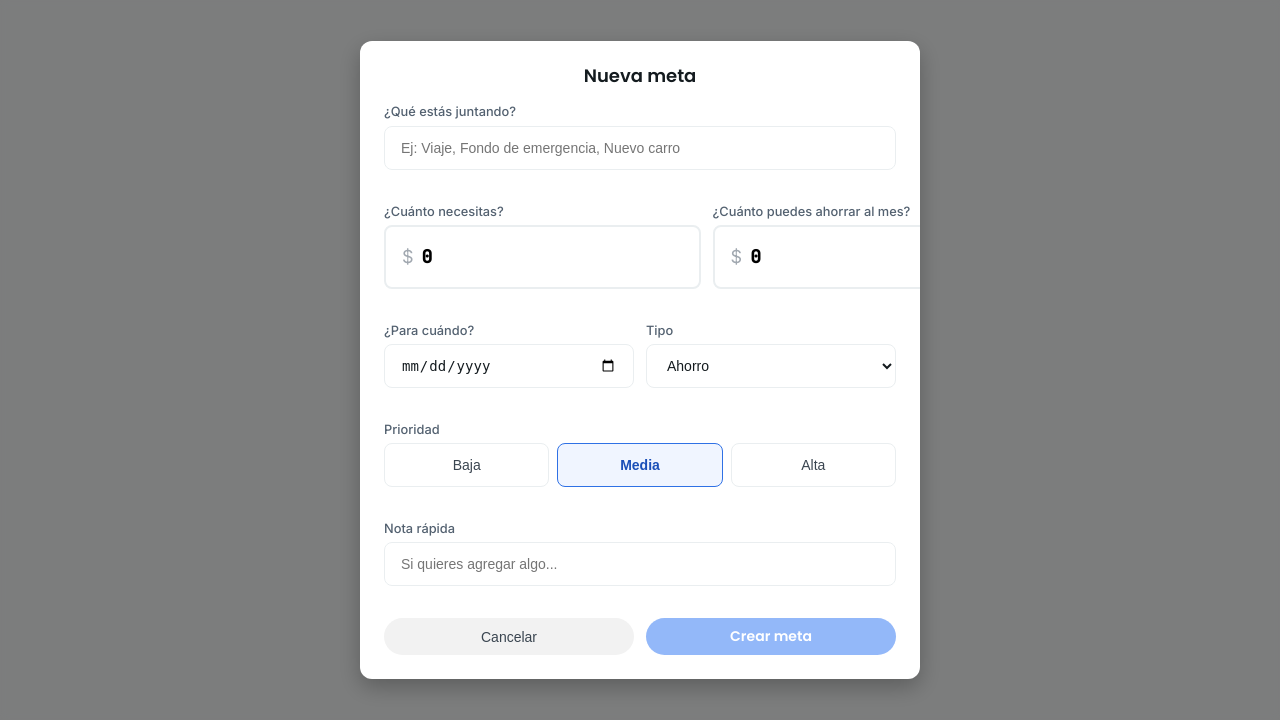
Test: GoalCreateModal › enables submit when name and target_amount filled
The image size is (1280, 720).
Type "Vacaciones" into the field with id "goal-name" at [640, 148], box 384,126 -> 896,170
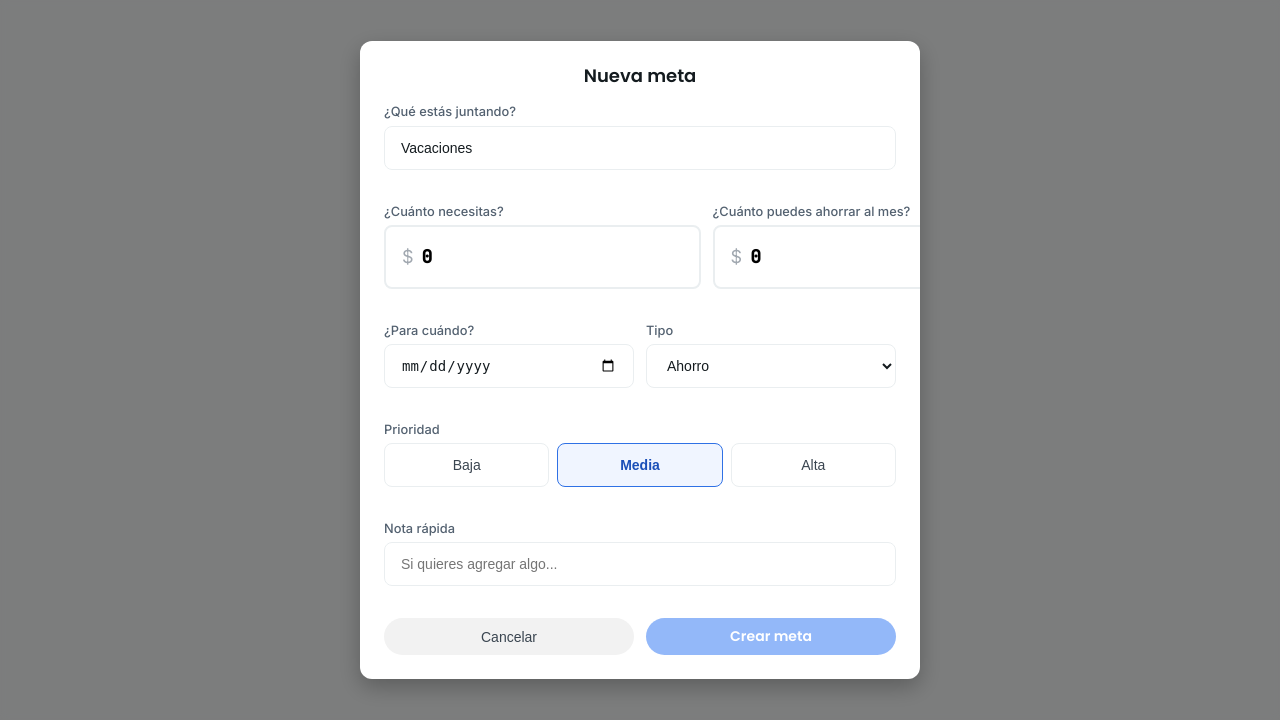
Type "5000000" into the field with id "goal-target" at [552, 257], box 422,235 -> 683,279
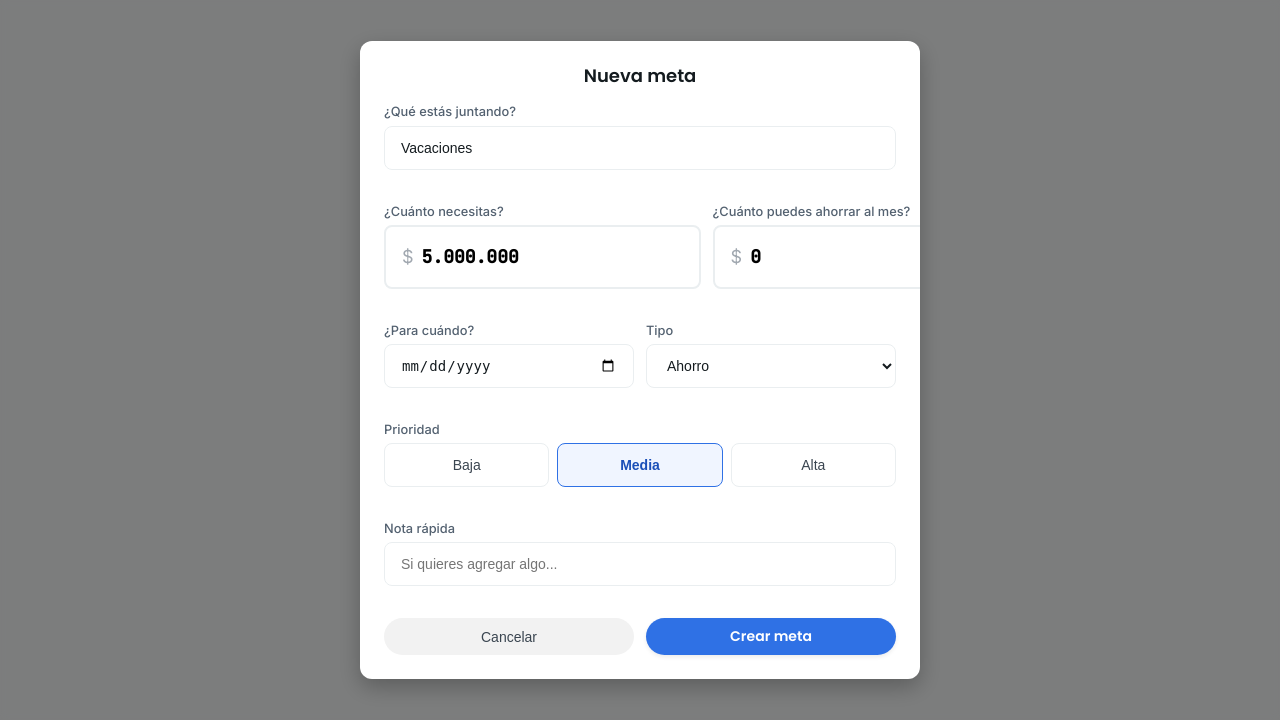
Check: the button with class "btn-confirm" is enabled, box 646,618 -> 896,655
